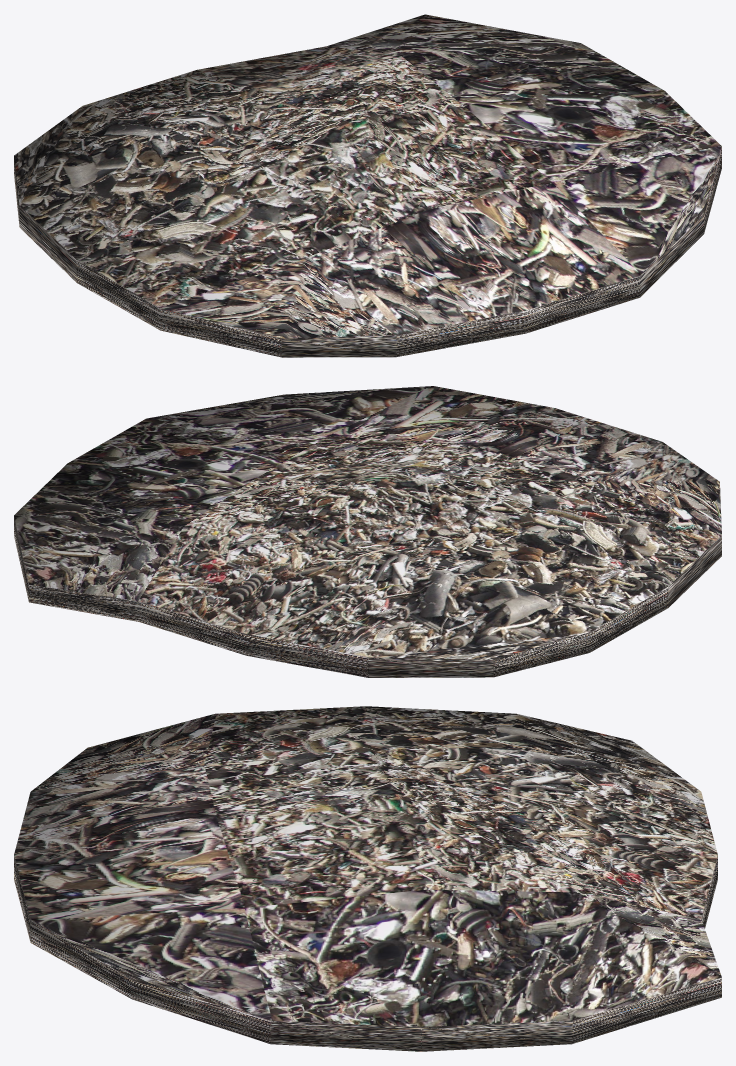
File: Trash.fbx
3 views of the same model, one above another, from view 1: azimuth 30°, elevation 25°; view 2: azimuth 150°, elevation 25°; view 3: azimuth 270°, elevation 25° (orthographic). The views are drawn at different scales.
Parts seen in each view (by area): view 1: Trash; view 2: Trash; view 3: Trash.
Part boxes in pixels (left/top/right/bottom): Trash: left=14, top=14, right=721, bottom=357; Trash: left=14, top=386, right=721, bottom=677; Trash: left=14, top=706, right=721, bottom=1051.
Size of the model in its own units: 234 by 28.34 by 219.
